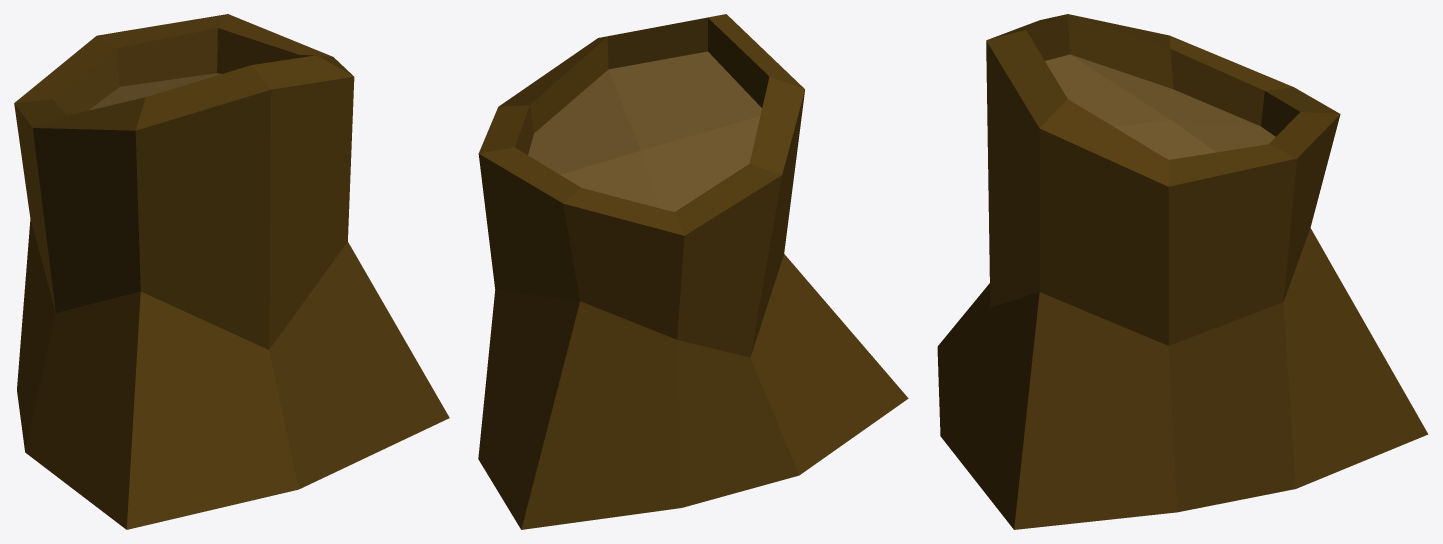
File: Stump2.fbx
3 views of the same model, side by side, from view 1: azimuth 30°, elevation 25°; view 2: azimuth 150°, elevation 25°; view 3: azimuth 270°, elevation 25° (orthographic). The views are drawn at different scales.
Parts seen in each view (by area): view 1: Cylinder.007; view 2: Cylinder.007; view 3: Cylinder.007.
Boxes of the visible parts, x1=… form: Cylinder.007: x1=14, y1=14, x2=449, y2=529; Cylinder.007: x1=478, y1=14, x2=908, y2=529; Cylinder.007: x1=937, y1=14, x2=1428, y2=529.
Size of the model in its own units: 57.36 by 60.18 by 66.19.
